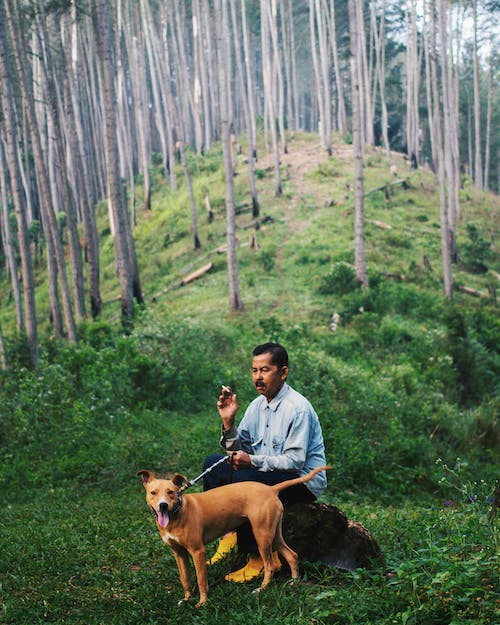cigarette: (220, 383, 231, 394)
